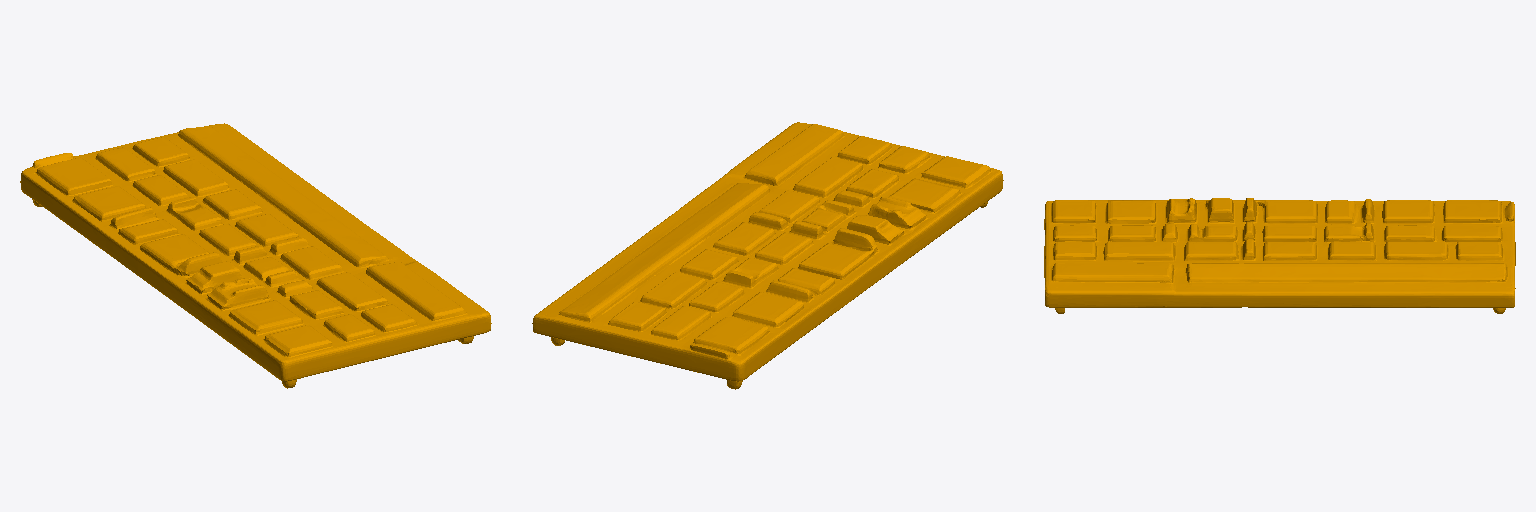
URDF robot description (sample):
<?xml version="1.0" ?>
<robot name="sample">
   <link name="sample">
      <visual>
         <origin xyz="0 0 0" rpy="1.5708 0.0 0.0"/>
         <geometry>
            <mesh filename="mesh/sample.obj" scale="1.0 1.0 1.0"/>
         </geometry>
      </visual>
      <collision>
         <origin xyz="0 0 0" rpy="1.5708 0.0 0.0"/>
         <geometry>
            <mesh filename="mesh/sample_collision.obj" scale="1.0 1.0 1.0"/>
         </geometry>
         <gazebo>
            <mu1>0.70</mu1>
            <mu2>0.60</mu2>
         </gazebo>
      </collision>
      <inertial>
         <mass value="1.2500"/>
         <origin xyz="0 0 0"/>
         <inertia ixx="1.0" ixy="0.0" ixz="0.0" iyy="1.0" iyz="0.0" izz="1.0"/>
      </inertial>
      <extra_info>
         <scale>0.643175</scale>
         <version>v0.1.7</version>
         <category>keyboard</category>
         <description>white rectangular keyboard with keys and feet</description>
         <min_height>0.05</min_height>
         <max_height>0.08</max_height>
         <real_height>0.065</real_height>
         <min_mass>1.0</min_mass>
         <max_mass>1.5</max_mass>
         <generate_time>20260323151606</generate_time>
         <gs_model>mesh/sample_gs.ply</gs_model>
      </extra_info>
   </link>
   <custom_data>
      <quality>
         <MeshGeoChecker>NO: object has irregular top surface and missing structural details.</MeshGeoChecker>
         <ImageSegChecker>NO, keyboard is not fully extracted and background is incorrectly segmented.</ImageSegChecker>
         <ImageAestheticChecker>4.814431309700012</ImageAestheticChecker>
         <overall>NO</overall>
      </quality>
   </custom_data>
</robot>

--- Render facts (derived) ---
The picture shows the robot from 3 angles, left to right: view 1: azimuth 30°, elevation 25°; view 2: azimuth 150°, elevation 25°; view 3: azimuth 270°, elevation 25°; orthographic projection.
Robot: sample — 1 links, 0 joints (none); root link sample; default pose: all joints at 0.
Visible links, largest first — view 1: sample; view 2: sample; view 3: sample.
Boxes of the visible links, x1,y1,x2,y2 form: sample: (20, 123, 491, 388); sample: (532, 122, 1003, 389); sample: (1044, 198, 1515, 313).
Size in the robot's own frame: 0.2951 by 0.6432 by 0.065 metres.
1 mesh visuals loaded from 1 distinct referenced files (1 OBJ).
